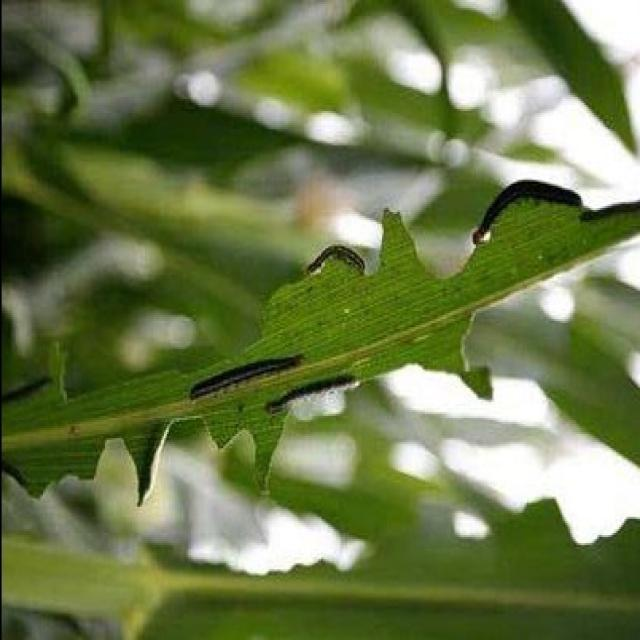army worm: (467, 176, 589, 250), (185, 346, 311, 407), (268, 368, 365, 429), (307, 242, 376, 285)
